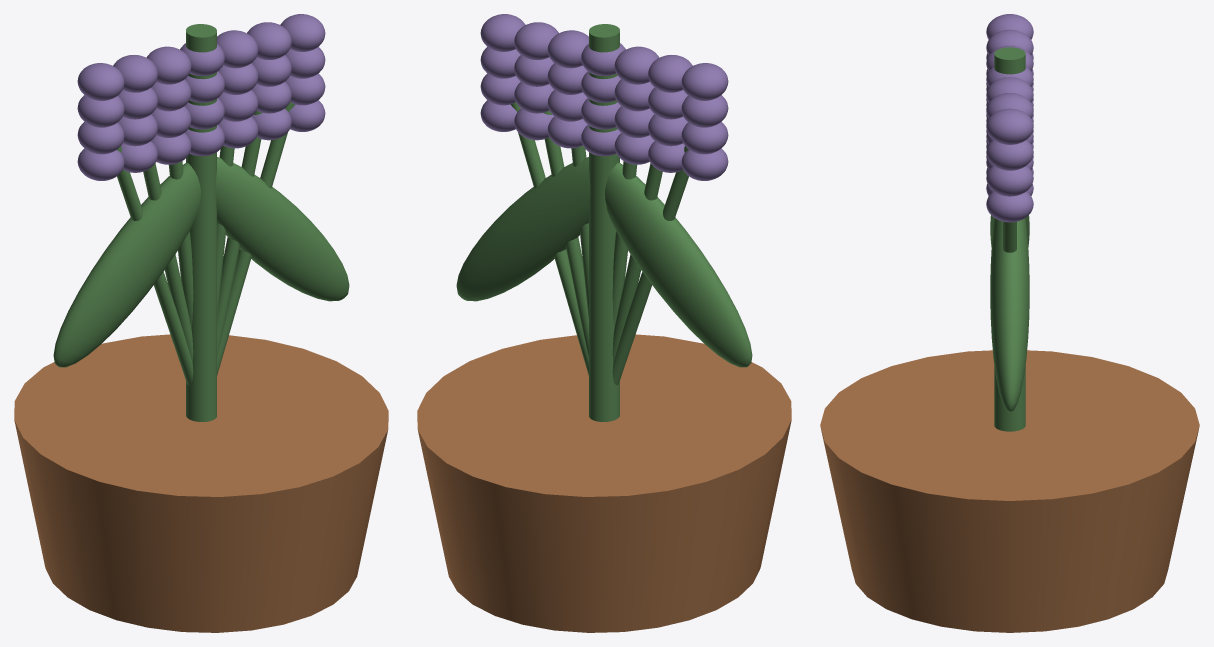
File: wp-lavande-en-pot.glb
The picture shows the model from 3 angles, left to right: view 1: azimuth 30°, elevation 25°; view 2: azimuth 150°, elevation 25°; view 3: azimuth 270°, elevation 25°; orthographic projection. The views are drawn at different scales.
Parts seen in each view (by area): view 1: wp-lavande-en-pot; view 2: wp-lavande-en-pot; view 3: wp-lavande-en-pot.
Boxes of the visible parts, left/top/right/bottom form: wp-lavande-en-pot: left=14, top=14, right=388, bottom=632; wp-lavande-en-pot: left=417, top=14, right=791, bottom=632; wp-lavande-en-pot: left=820, top=14, right=1199, bottom=632.
Size of the model in its own units: 0.3777 by 0.6 by 0.4.
